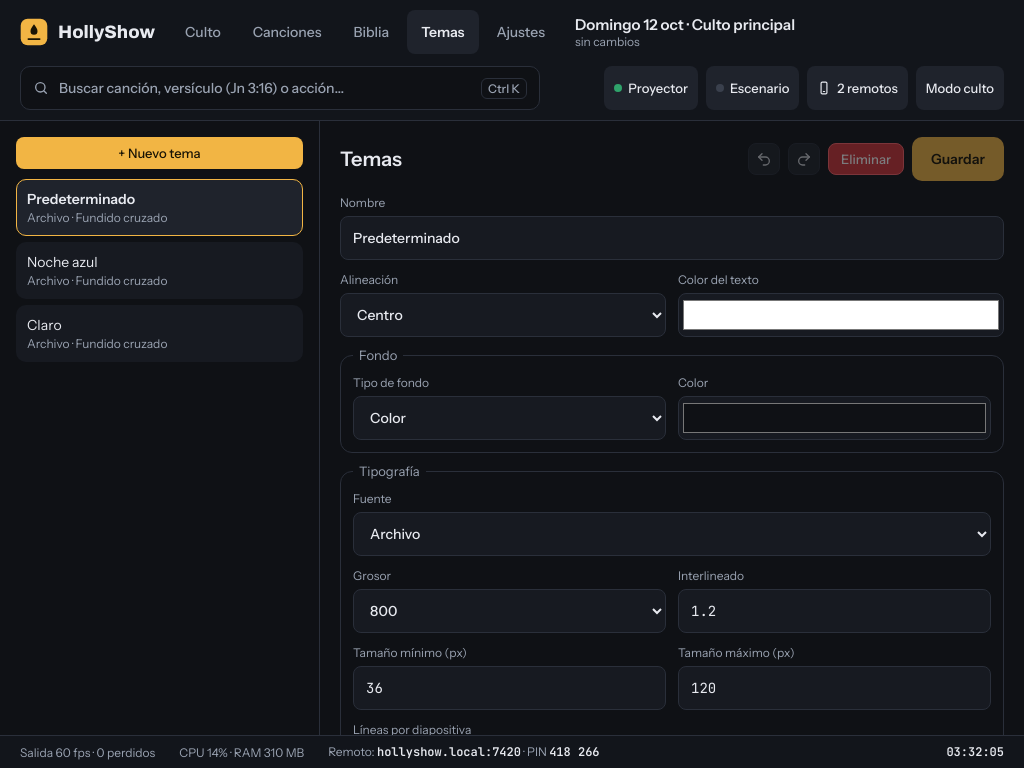
it: host integration in the operator window › opens the image bank from the theme editor
Select "Imagen" in the dropdown labelled "Tipo de fondo" at (510, 418), box [353,396,666,440]
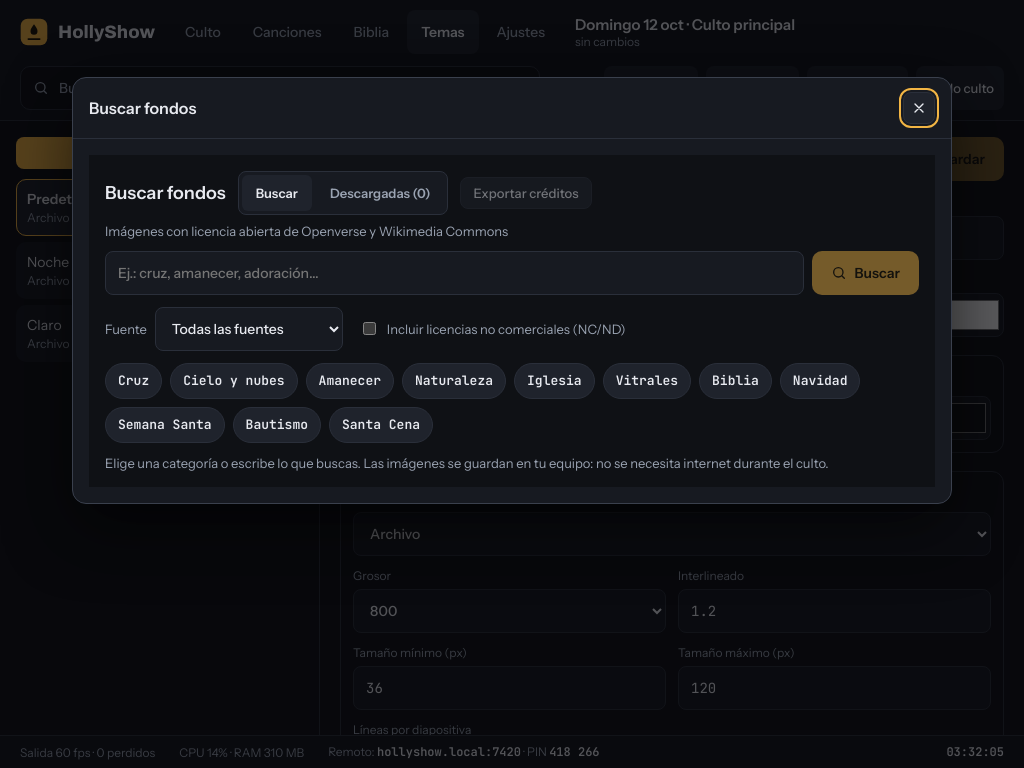
Result: the 1st heading "Buscar fondos" is shown at [89,98,196,118]
